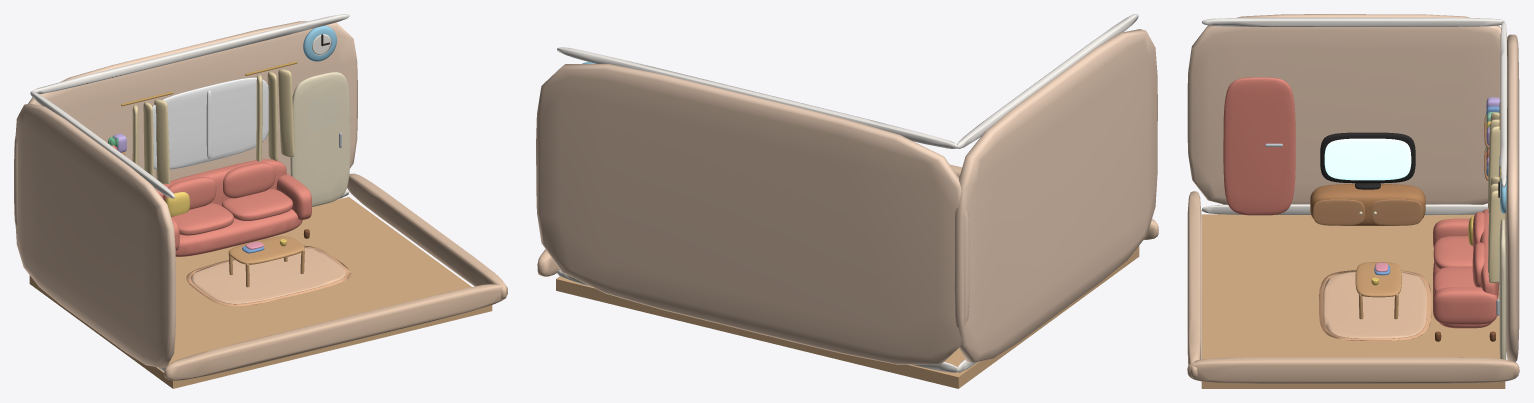
File: casa_sala.glb
3 renders of one model, left to right at view 1: azimuth 30°, elevation 25°; view 2: azimuth 150°, elevation 25°; view 3: azimuth 270°, elevation 25°, orthographic. The views are drawn at different scales.
Visible parts, largest first — view 1: pared izquierda, piso, pared fondo, muro bajo frente, marco, puerta.001, tapete, muro bajo derecha, cornisa fondo, base sofá, cojín asiento.001, cojín espalda.001 (+14 smaller); view 2: pared fondo, pared izquierda, piso, cornisa fondo, cornisa izquierda; view 3: pared izquierda, piso, puerta, muro bajo derecha, tapete, pared fondo, pantalla tv, cornisa izquierda, muro bajo frente, brazo sofá.001, mueble tv, marco tv (+15 smaller).
Boxes of the visible parts, x1,y1,x2,y2 form: pared izquierda: (15, 103, 175, 368); piso: (29, 197, 492, 388); pared fondo: (14, 21, 357, 225); muro bajo frente: (164, 283, 507, 380); marco: (152, 77, 268, 169); puerta.001: (290, 72, 350, 206); tapete: (191, 247, 345, 304); muro bajo derecha: (347, 173, 506, 299); cornisa fondo: (30, 14, 349, 94); base sofá: (175, 209, 302, 256); cojín asiento.001: (222, 189, 292, 220); cojín espalda.001: (223, 162, 275, 198); pared fondo: (536, 64, 969, 364); pared izquierda: (954, 29, 1157, 362); piso: (556, 246, 1139, 388); cornisa fondo: (557, 47, 958, 148); cornisa izquierda: (956, 14, 1138, 148); pared izquierda: (1187, 14, 1507, 204); piso: (1201, 214, 1505, 388); puerta: (1223, 77, 1295, 215); muro bajo derecha: (1187, 357, 1519, 383); tapete: (1323, 271, 1426, 338); pared fondo: (1505, 34, 1519, 362); pantalla tv: (1324, 138, 1411, 180); cornisa izquierda: (1202, 17, 1504, 26); muro bajo frente: (1187, 191, 1201, 377); brazo sofá.001: (1433, 287, 1497, 324); mueble tv: (1310, 184, 1425, 225); marco tv: (1320, 132, 1415, 183).
Bounding box in the file's own units: 5.8 × 3.15 × 4.6.
